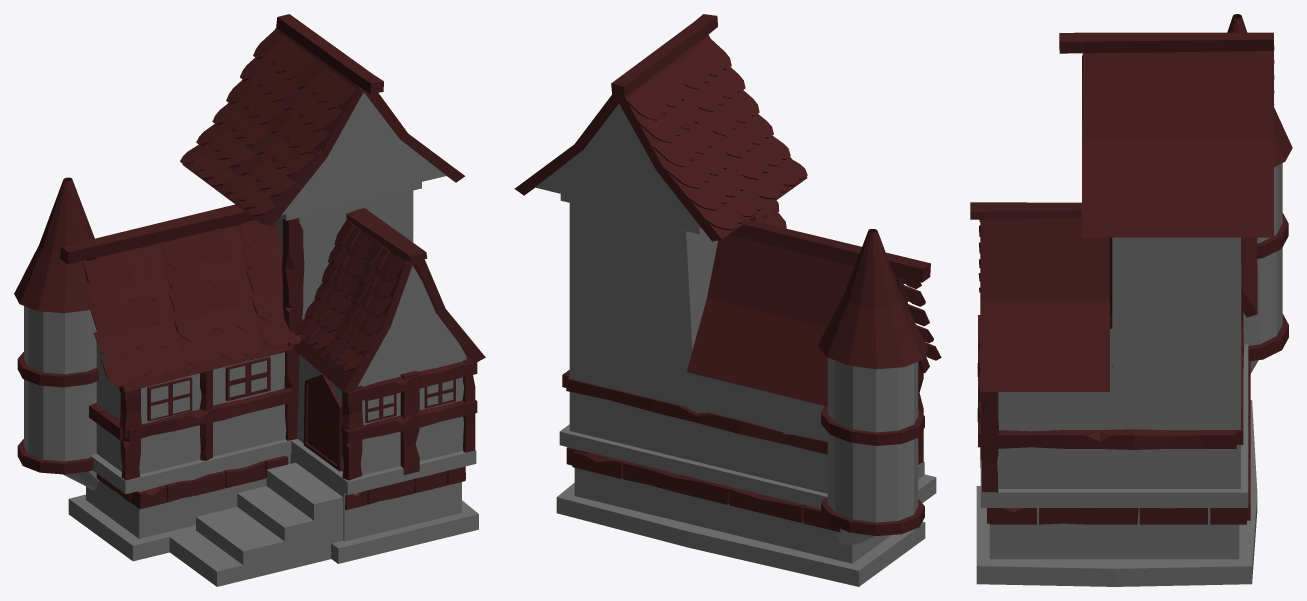
File: VillageHouseByLucas.fbx
3 views of the same model, side by side, from view 1: azimuth 30°, elevation 25°; view 2: azimuth 150°, elevation 25°; view 3: azimuth 270°, elevation 25° (orthographic). The views are drawn at different scales.
Visible parts, largest first — view 1: JANELAS, BASE; view 2: BASE, JANELAS; view 3: JANELAS, BASE.
Part boxes in pixels (<box>): JANELAS: <box>14,14,485,509</box>; BASE: <box>24,93,478,586</box>; BASE: <box>535,104,936,586</box>; JANELAS: <box>514,14,941,535</box>; JANELAS: <box>970,14,1292,524</box>; BASE: <box>976,163,1282,586</box>.
Size of the model in its own units: 5.78 by 6.38 by 3.66.
